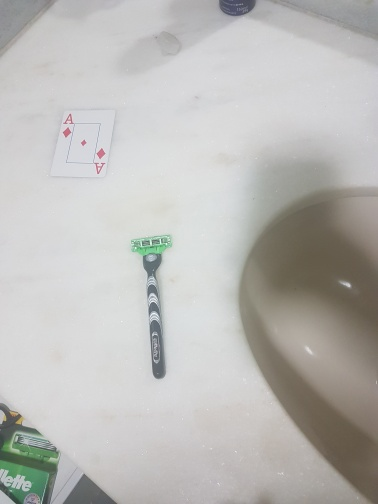ace: (49, 110, 119, 181)
